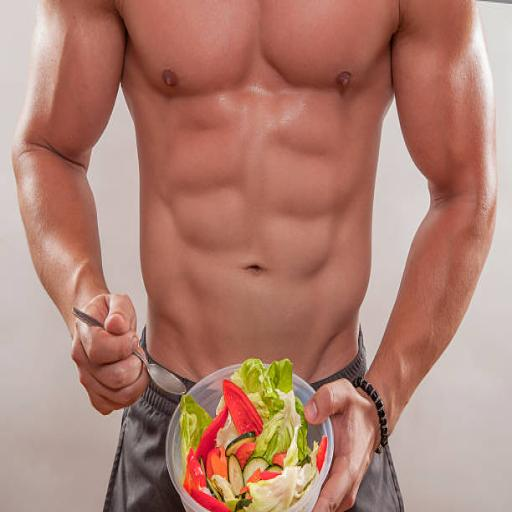Hardhat: (0, 92, 511, 414)
Person: (76, 256, 158, 368), (294, 328, 385, 420)
machinery: (31, 88, 489, 335)
